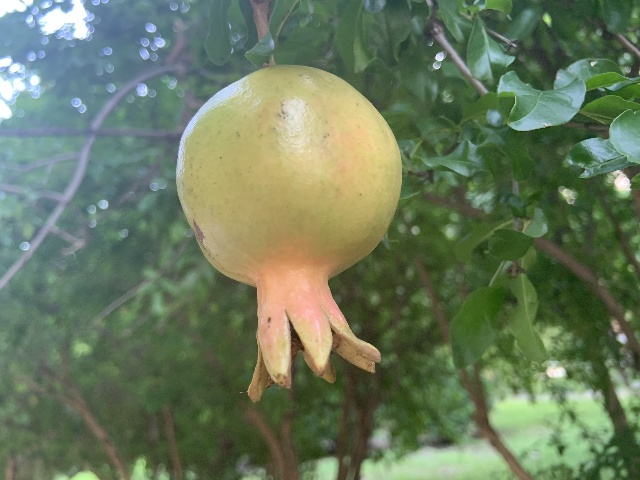mid-growth: (175, 62, 403, 399)
